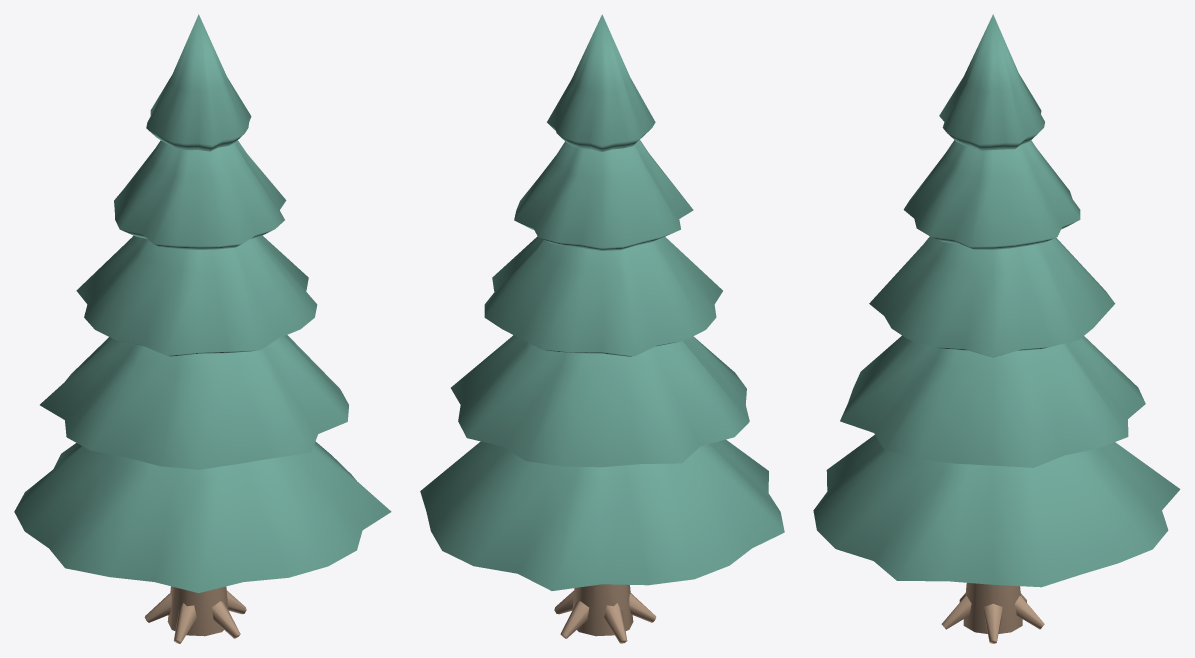
File: LogJamPine.glb
The picture shows the model from 3 angles, left to right: view 1: azimuth 30°, elevation 25°; view 2: azimuth 150°, elevation 25°; view 3: azimuth 270°, elevation 25°; orthographic projection.
Parts seen in each view (by area): view 1: Needles, Trunk; view 2: Needles, Trunk; view 3: Needles, Trunk.
Boxes of the visible parts, x1,y1,x2,y2 form: Needles: (14,14,391,593); Trunk: (144,586,246,643); Needles: (420,14,784,590); Trunk: (554,584,656,643); Needles: (813,14,1180,587); Trunk: (941,583,1044,643).
Bounding box in the file's own units: 10.52 × 19.45 × 10.62.
